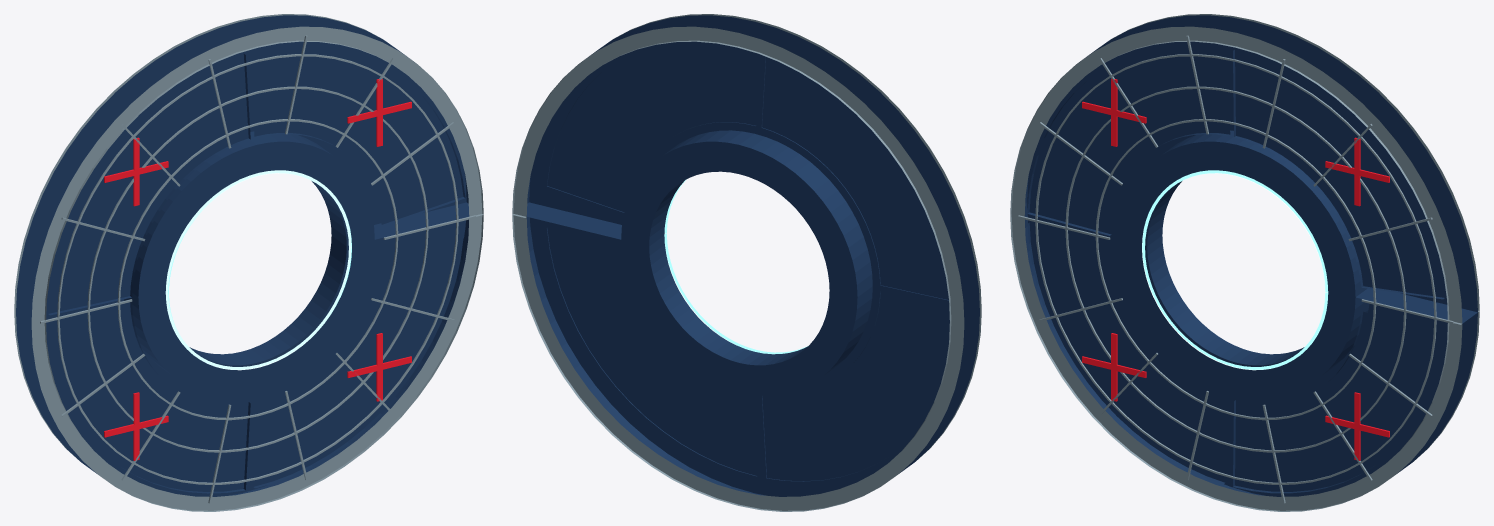
Rendered from foundry-panel-fun8-high.glb.
3 renders of one model, left to right at view 1: azimuth 30°, elevation 25°; view 2: azimuth 150°, elevation 25°; view 3: azimuth 330°, elevation 25°, orthographic.
Visible parts, largest first — view 1: RENDER_PANEL_SHELL, RENDER_PANEL_FRAME, RENDER_PANEL_HAZARD, RENDER_PANEL_SIGNAL; view 2: RENDER_PANEL_SHELL, RENDER_PANEL_FRAME, RENDER_PANEL_SIGNAL; view 3: RENDER_PANEL_SHELL, RENDER_PANEL_FRAME, RENDER_PANEL_HAZARD, RENDER_PANEL_SIGNAL.
Part boxes in pixels (x1,y1,x2,y2): RENDER_PANEL_SHELL: (16,15,469,496); RENDER_PANEL_FRAME: (14,14,483,511); RENDER_PANEL_HAZARD: (104,79,411,460); RENDER_PANEL_SIGNAL: (165,170,351,370); RENDER_PANEL_SHELL: (526,15,979,496); RENDER_PANEL_FRAME: (512,14,981,511); RENDER_PANEL_SIGNAL: (664,179,807,354); RENDER_PANEL_SHELL: (1024,15,1477,496); RENDER_PANEL_FRAME: (1010,14,1479,511); RENDER_PANEL_HAZARD: (1082,79,1389,460); RENDER_PANEL_SIGNAL: (1142,170,1328,370).
Size of what is drawn, in the model's own units: 41 by 41 by 3.09.
